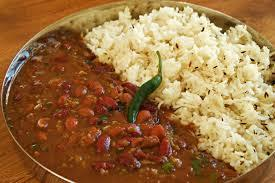rajma: (32, 42, 149, 183)
rice: (96, 13, 275, 119)
